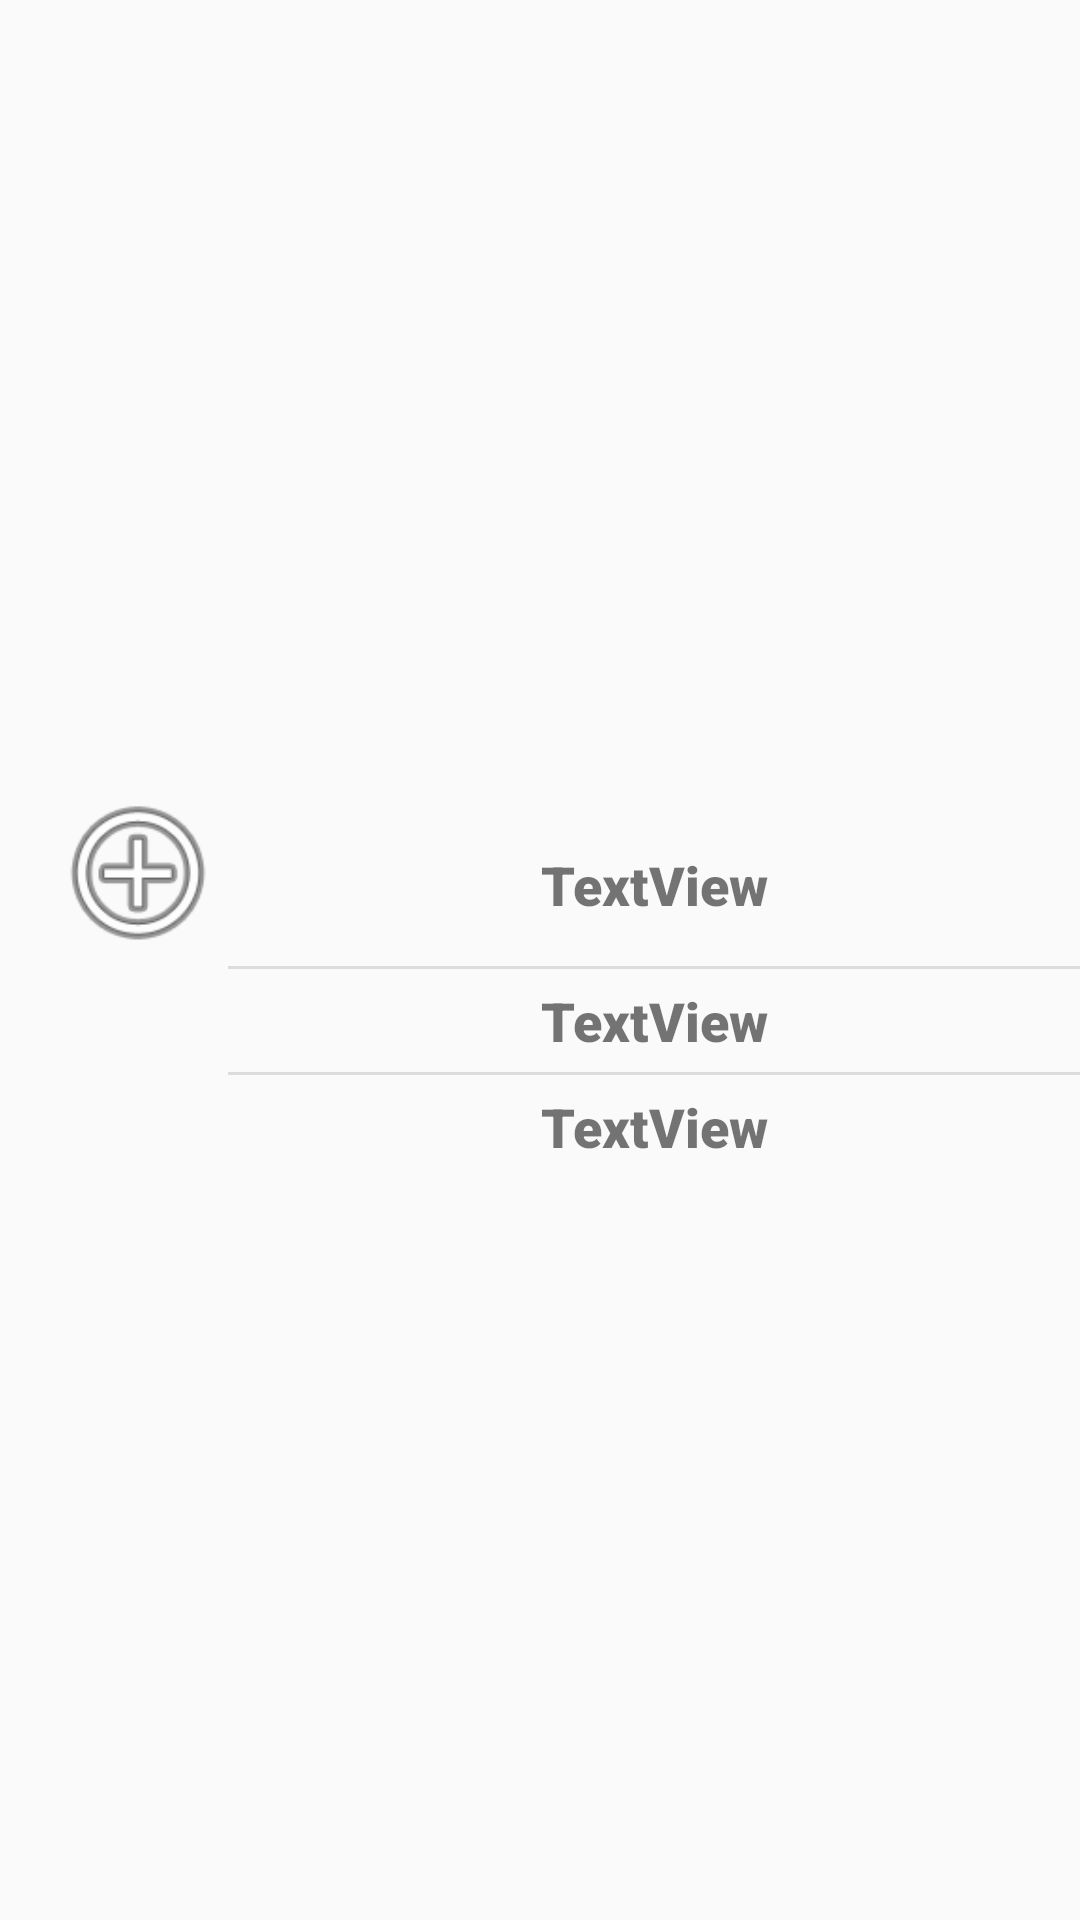

Named icons in this screenshot (1080px×1920px) and their bounding boxes, (x1, y1, x2, y2):
add: (71, 806, 205, 940)
